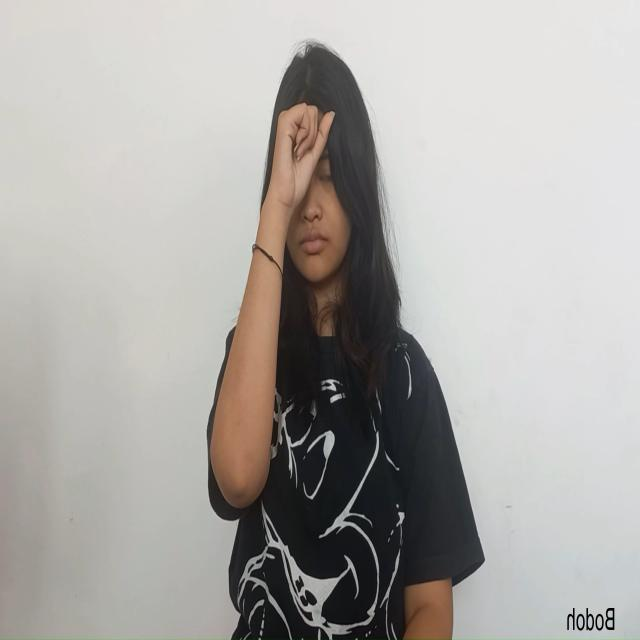Bodoh -BISINDO-: (261, 101, 336, 219)
